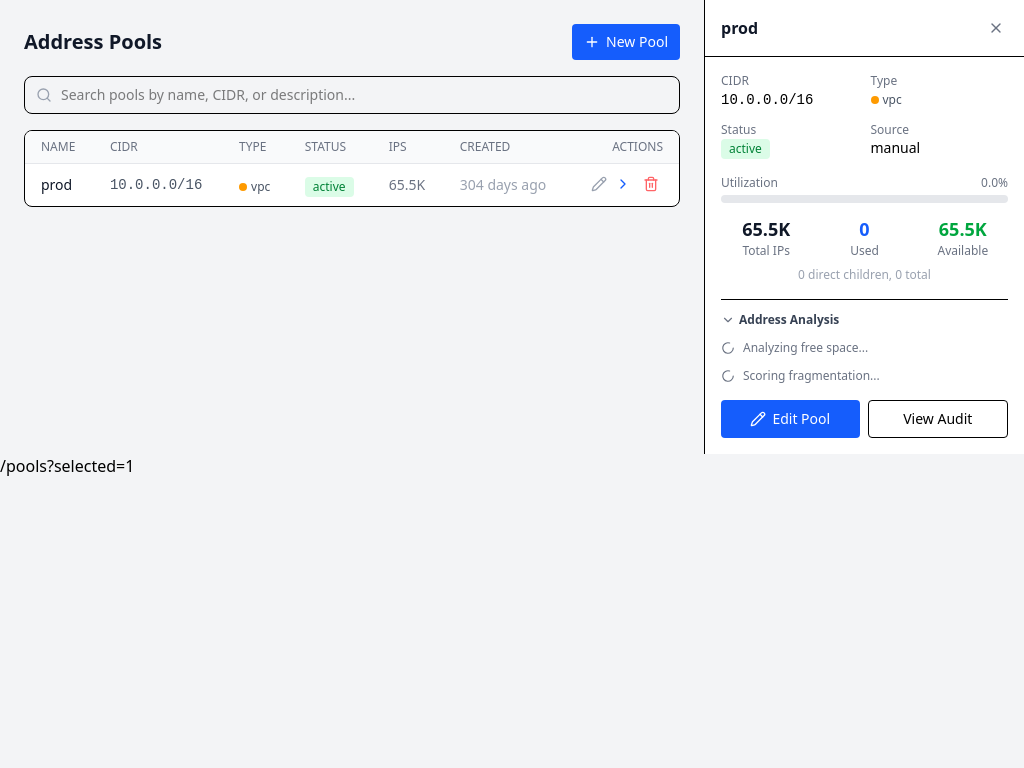
Test: PoolsPage validation › reloads the open panel after the pool is saved
Expected: the heading "prod" is shown, 721,16 -> 758,40
Click the button titled "Edit pool": point(599, 184) 587,172 -> 611,196
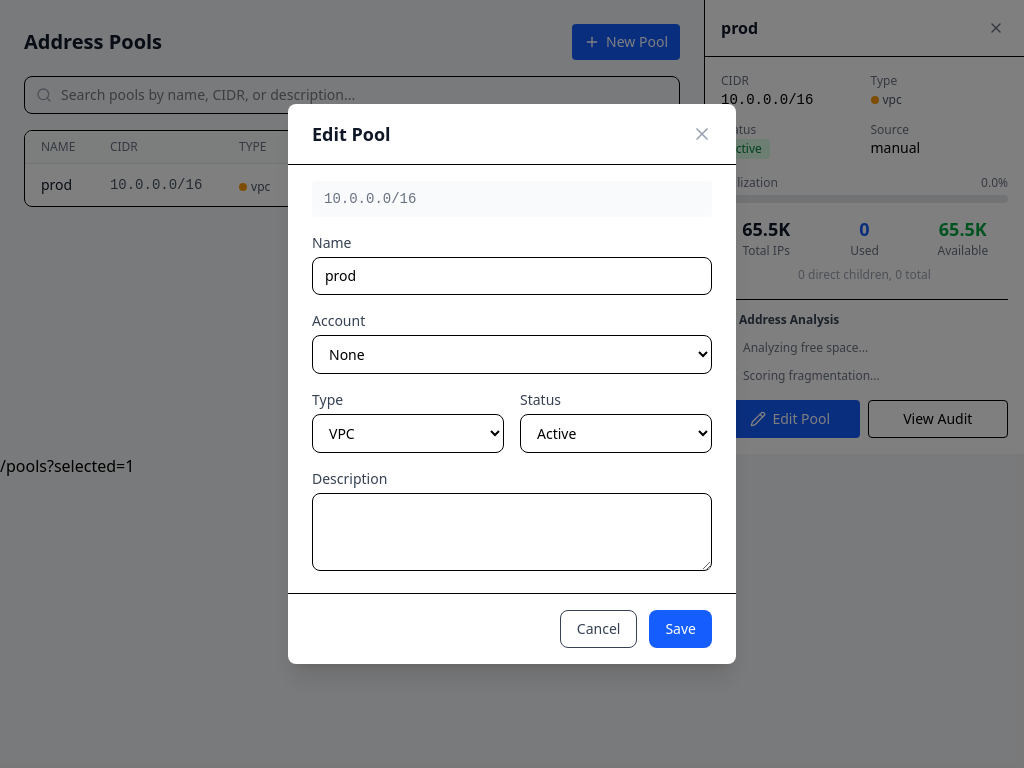
Replace the text in the field labelled "Name" with "prod-renamed": point(512, 276) 312,257 -> 712,295
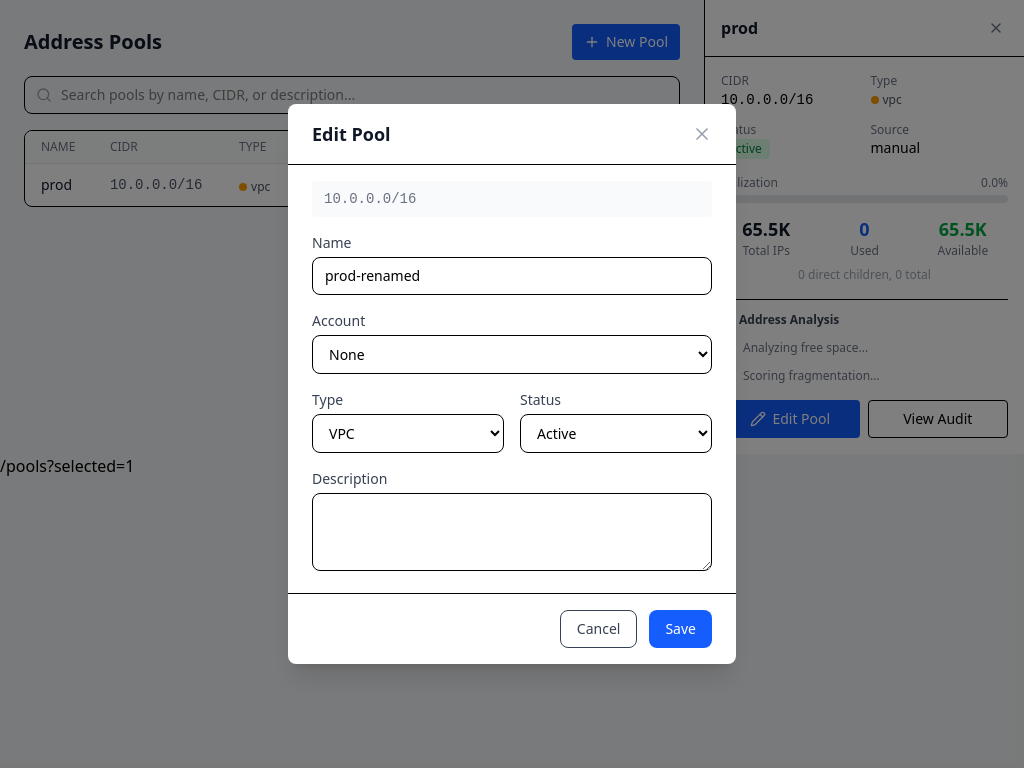
Click the button "Save": point(681, 629) 649,610 -> 712,648
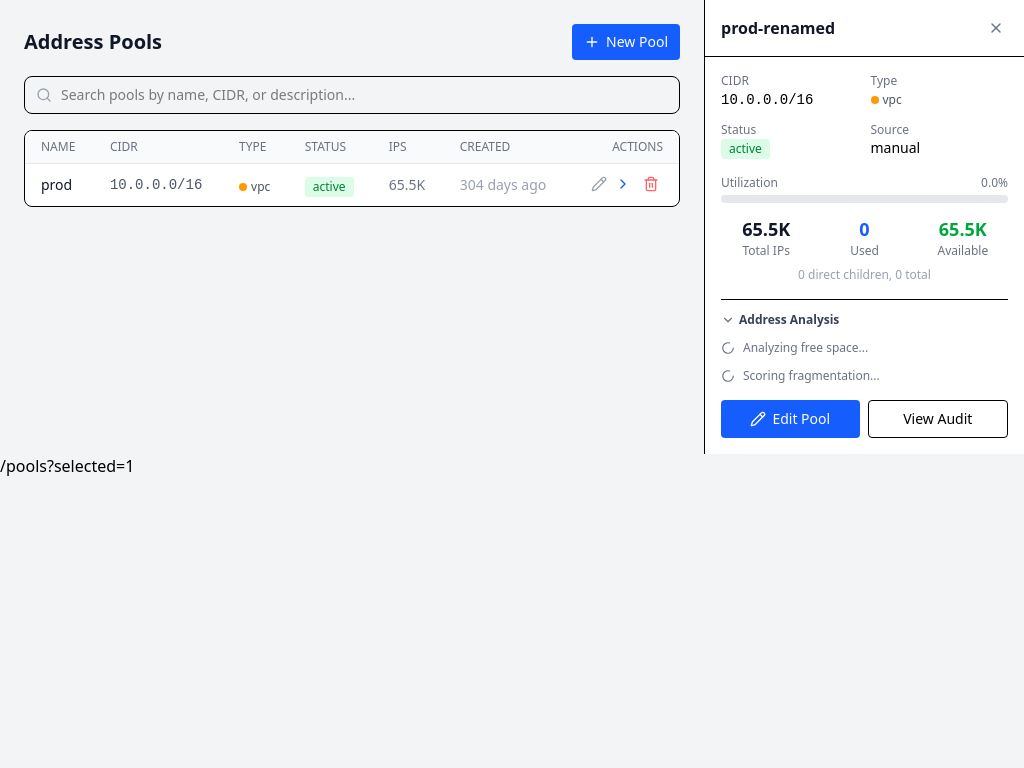
Expected: the text with test id "location" reads "/pools?selected=1", 0,455 -> 134,477
Expected: the heading "prod-renamed" is shown, 721,16 -> 835,40
